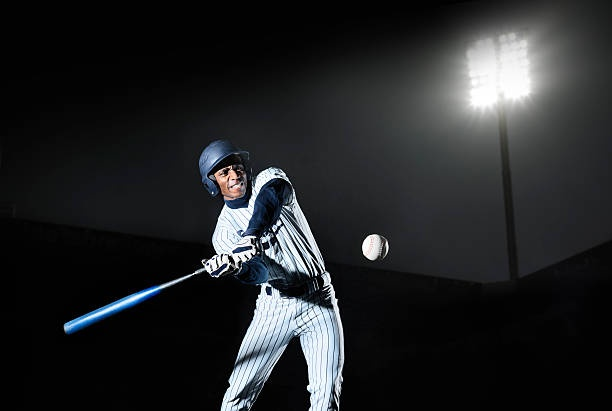bita: (59, 246, 272, 338)
